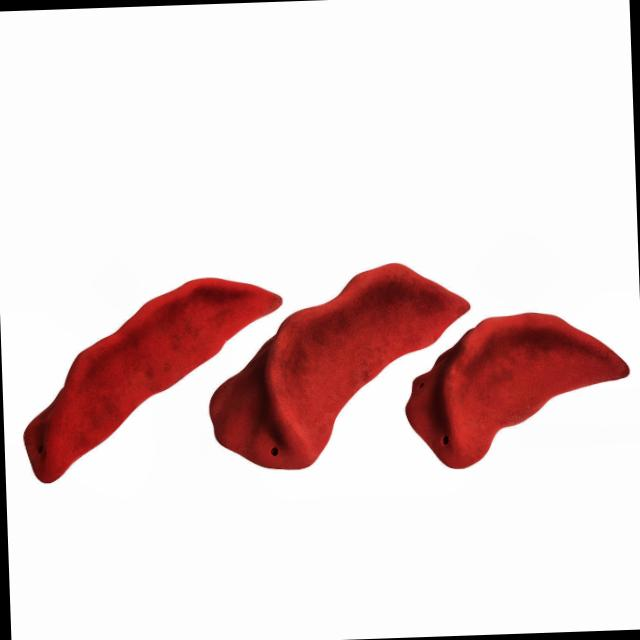Hold: (186, 240, 501, 490), (9, 258, 298, 516), (398, 298, 634, 474)
